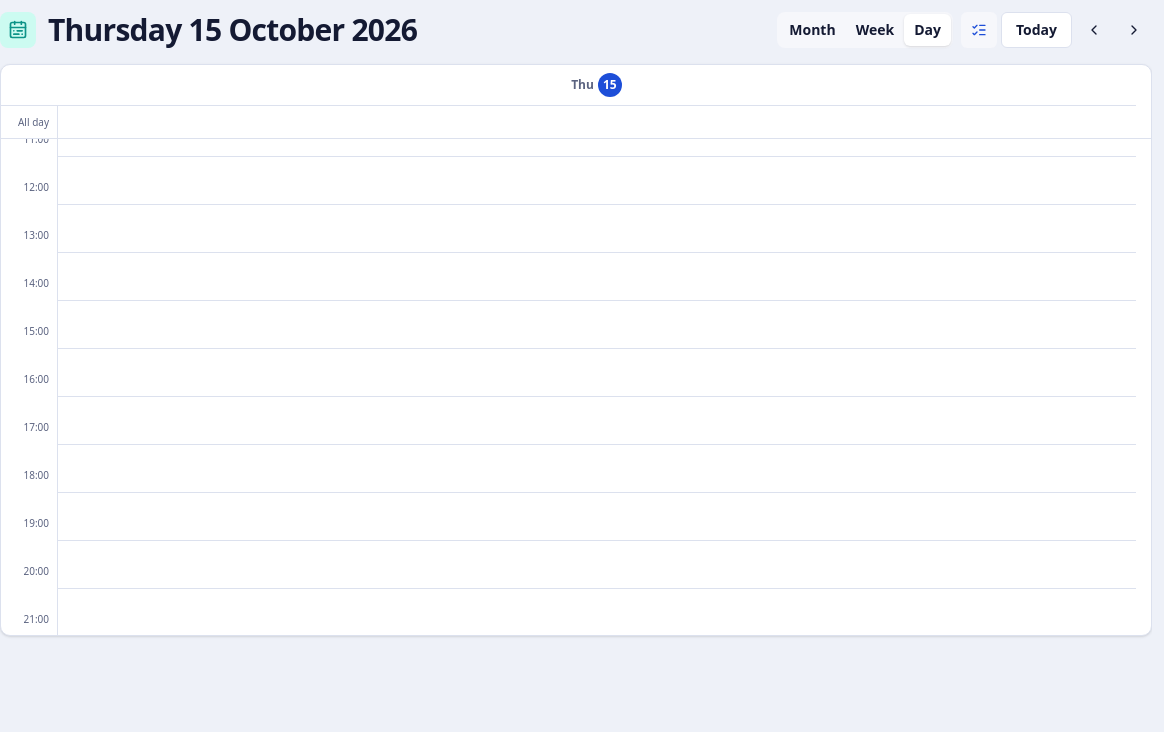
Test: CalendarView in Day mode › shows one day's timeline and steps a day at a time
(page scrolled)
Click the button named "Next day": (1134, 30) x1=1116 y1=12 x2=1152 y2=48
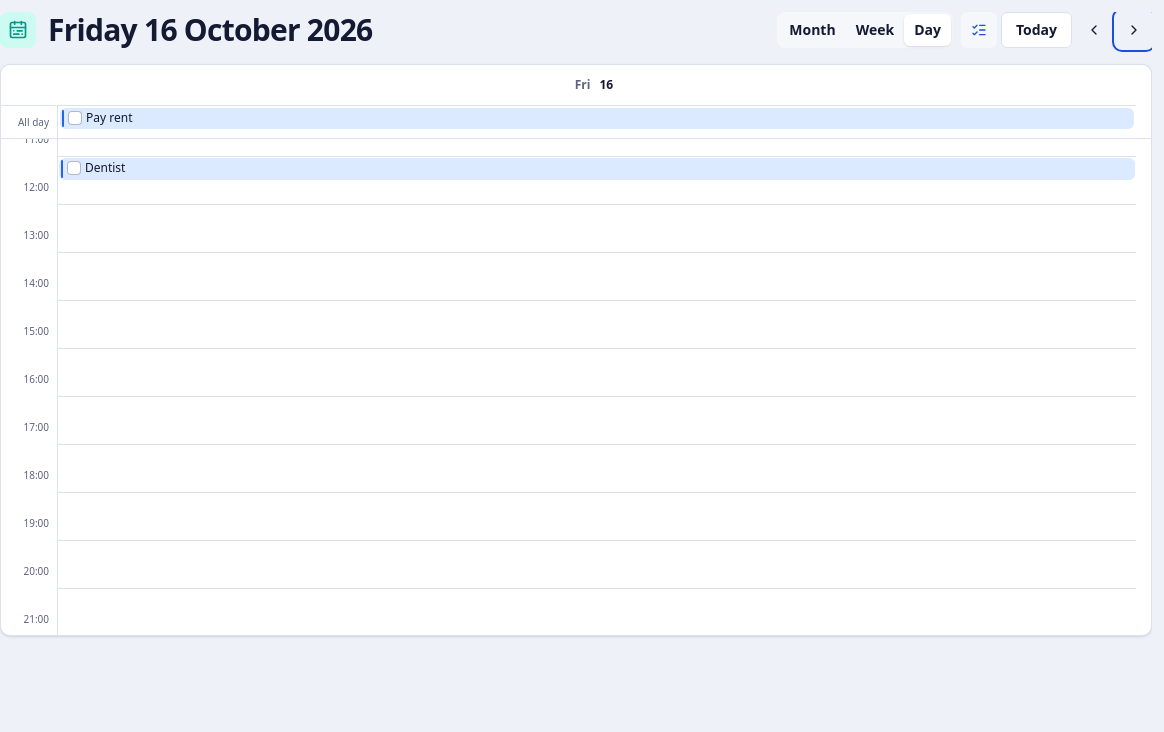
Now the heading "Friday 16 October 2026" is shown, box x1=48 y1=12 x2=372 y2=48
Now the text "Pay rent" is shown, box x1=86 y1=109 x2=132 y2=126
Now the text "Dentist" is shown, box x1=85 y1=160 x2=126 y2=176
